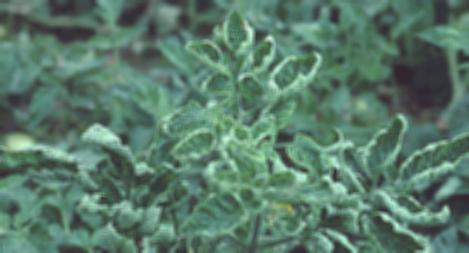Tomato leaf yellow virus: (387, 129, 469, 197), (170, 187, 252, 247), (355, 211, 469, 253), (166, 117, 238, 171), (364, 192, 469, 228), (372, 105, 417, 174), (153, 99, 213, 150), (221, 4, 256, 75), (264, 52, 323, 94), (168, 41, 235, 73)
